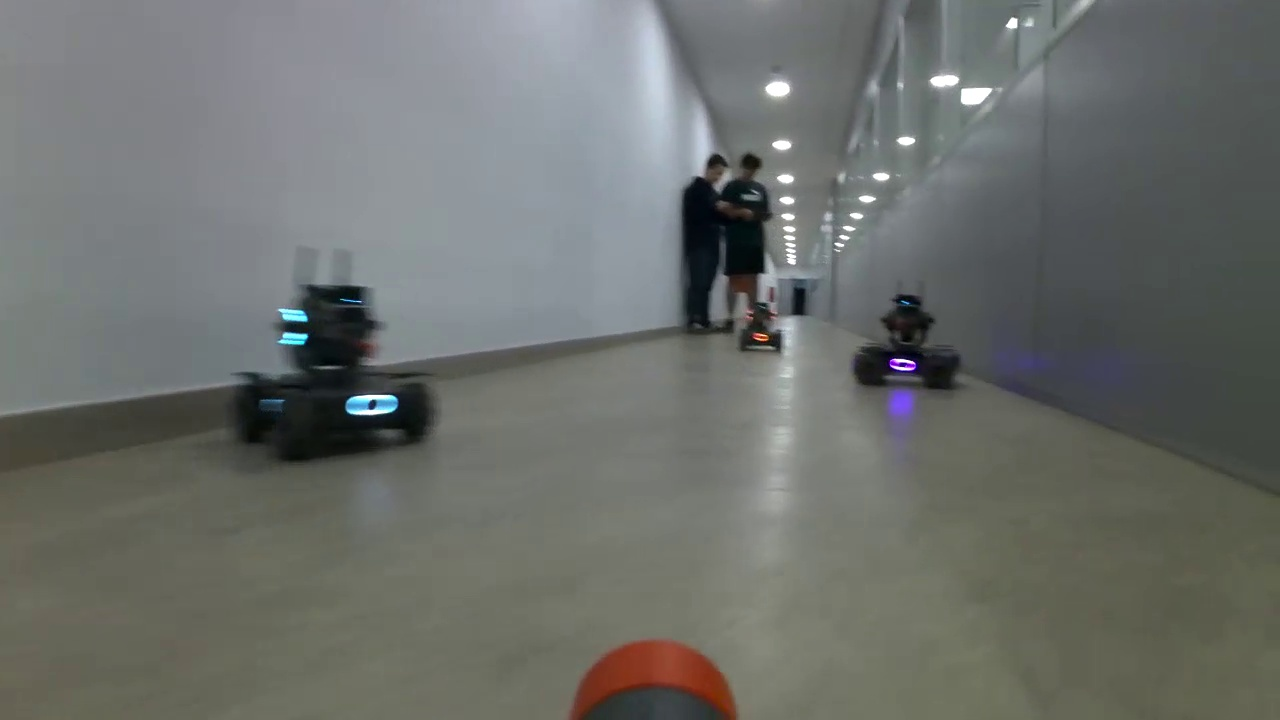robot: (224, 281, 434, 463), (853, 294, 962, 393), (736, 302, 784, 356)
